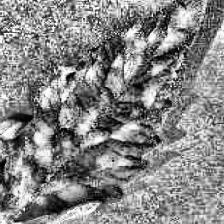Anthracnose Fruit Rot: (161, 2, 196, 52), (74, 114, 113, 149), (110, 48, 144, 86), (33, 134, 61, 172), (10, 174, 37, 208), (55, 181, 89, 205)
